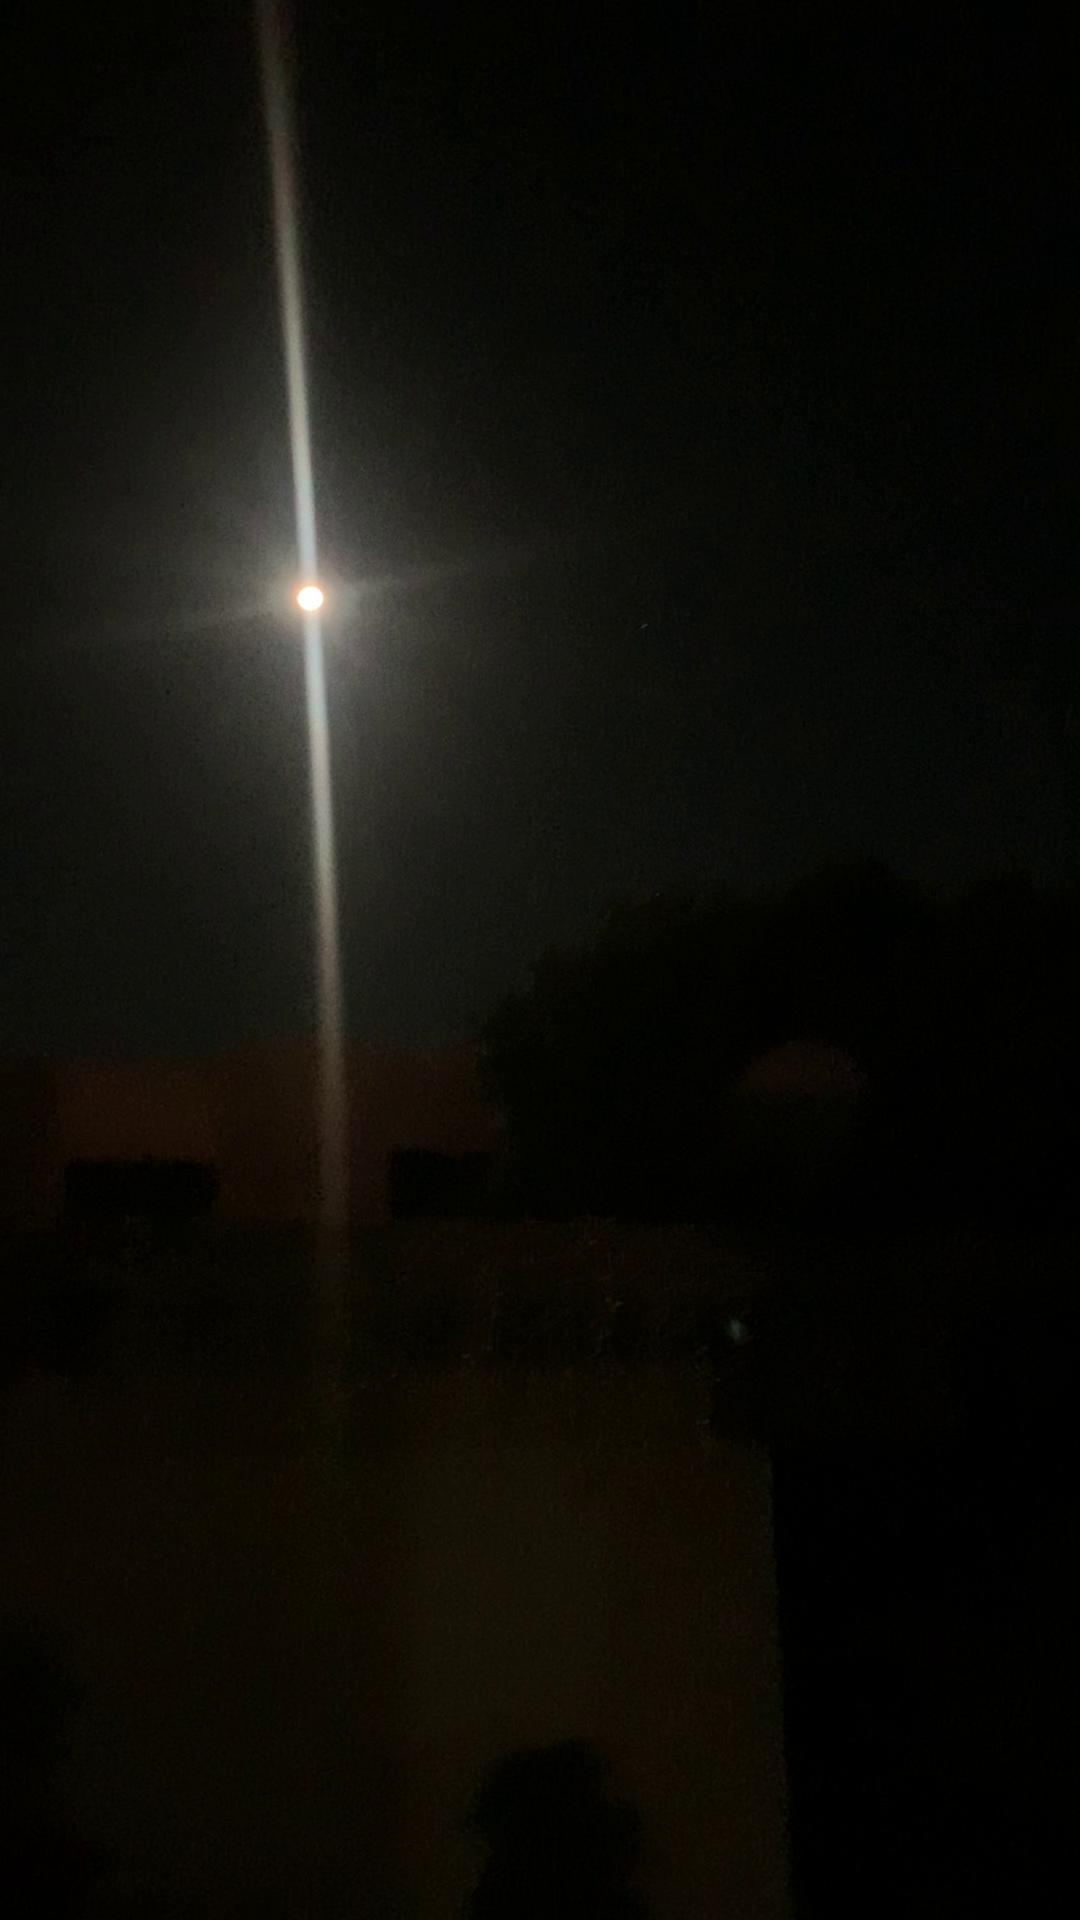moon: (294, 562, 369, 641)
